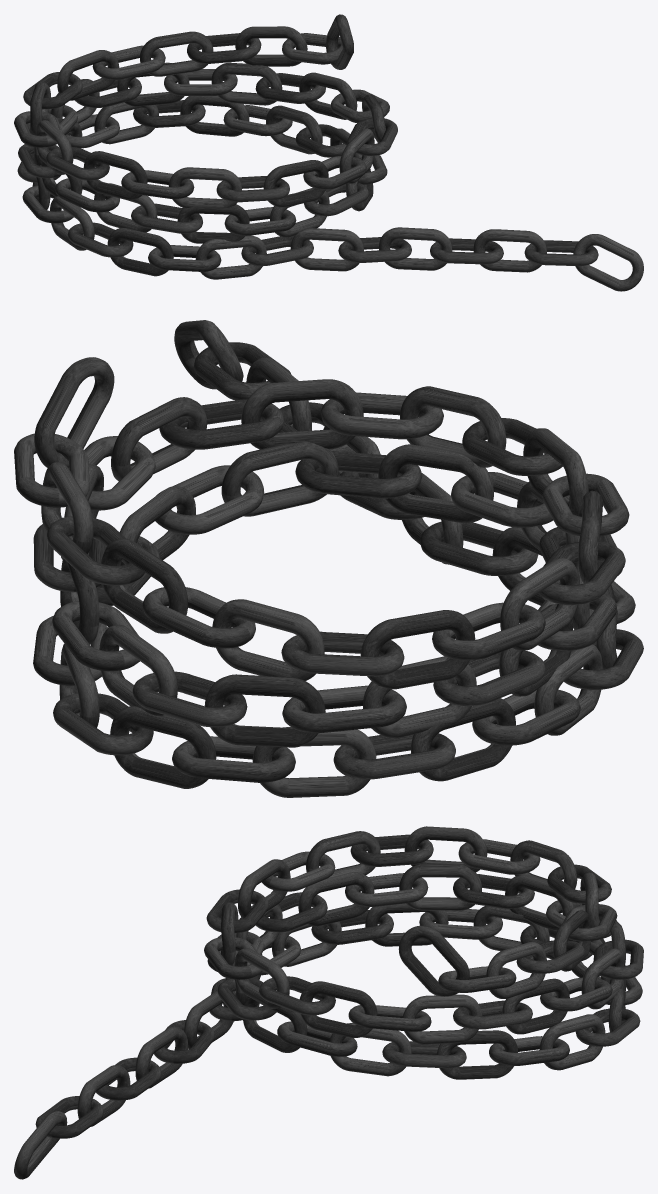
Rendered from torus_lev3.glb.
3 views of the same model, one above another, from view 1: azimuth 30°, elevation 25°; view 2: azimuth 150°, elevation 25°; view 3: azimuth 270°, elevation 25° (orthographic). The views are drawn at different scales.
Visible parts, largest first — view 1: torus_lev3; view 2: torus_lev3; view 3: torus_lev3.
Part boxes in pixels (x1=…): torus_lev3: x1=14, y1=14, x2=643, y2=291; torus_lev3: x1=14, y1=320, x2=643, y2=797; torus_lev3: x1=14, y1=826, x2=643, y2=1179.
Bounding box in the file's own units: 0.4365 × 0.168 × 0.4963.
1 material, 1 textured.
